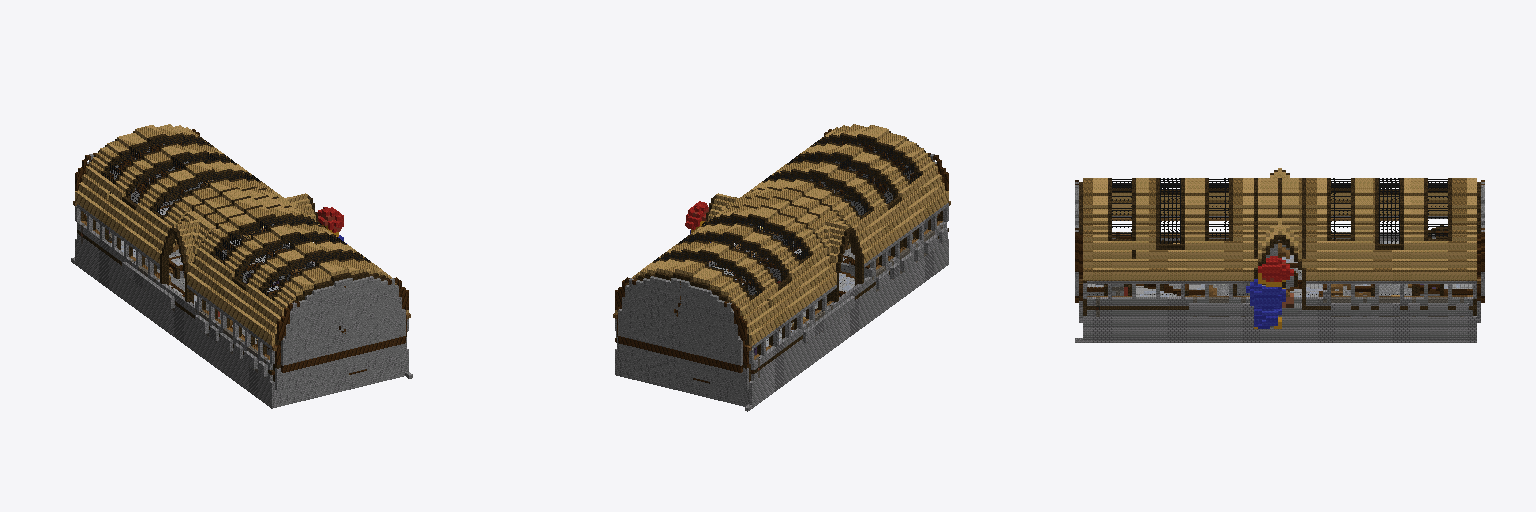
3 renders of one model, left to right at view 1: azimuth 30°, elevation 25°; view 2: azimuth 150°, elevation 25°; view 3: azimuth 270°, elevation 25°, orthographic.
Bounding box in the file's own units: 49 × 33 × 101.
Materials: 34 (33 with a texture image).